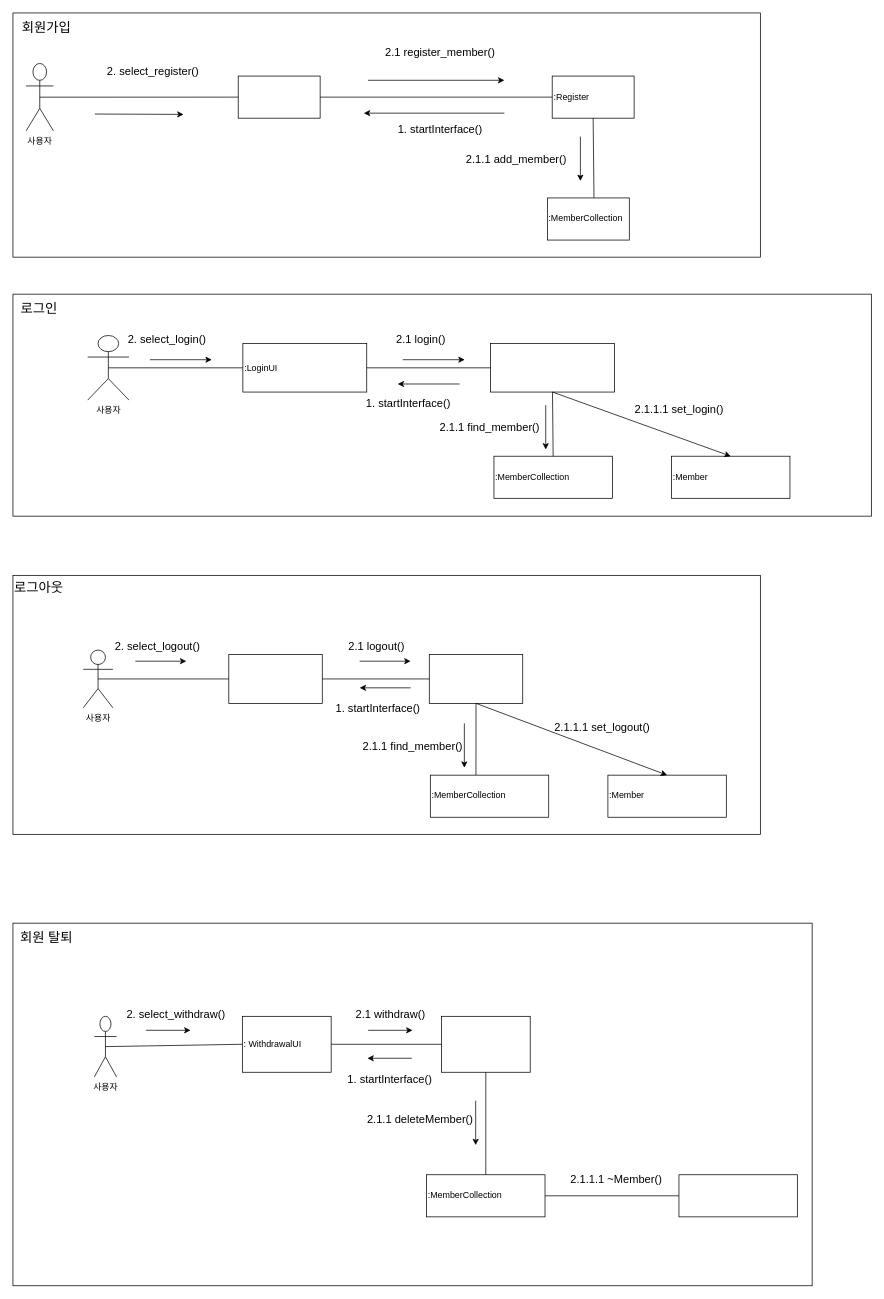
The diagram is 884 pixels wide and 1299 high, and some of its shapes have lost their labels. Each missing label, with the centre of its shape:
": Withdraw" goes at [485,1044].
":Login" goes at [552,367].
":Logout" goes at [476,678].
":LogoutUI" goes at [275,678].
":RegisterUI" goes at [278,96].
"deleteMember:Member" goes at [737,1195].
